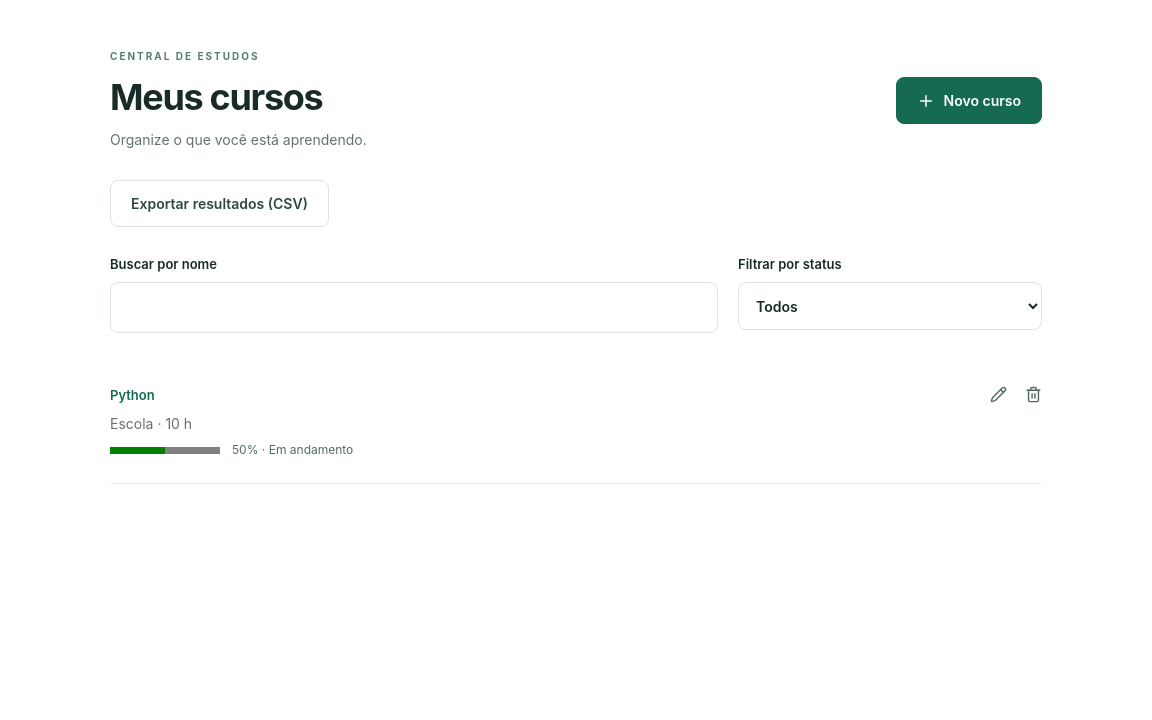
Test case: requires explicit confirmation before deleting a course and its tasks
Click the button named "Excluir Python".
click(1034, 394)  # box [1025,376,1042,413]
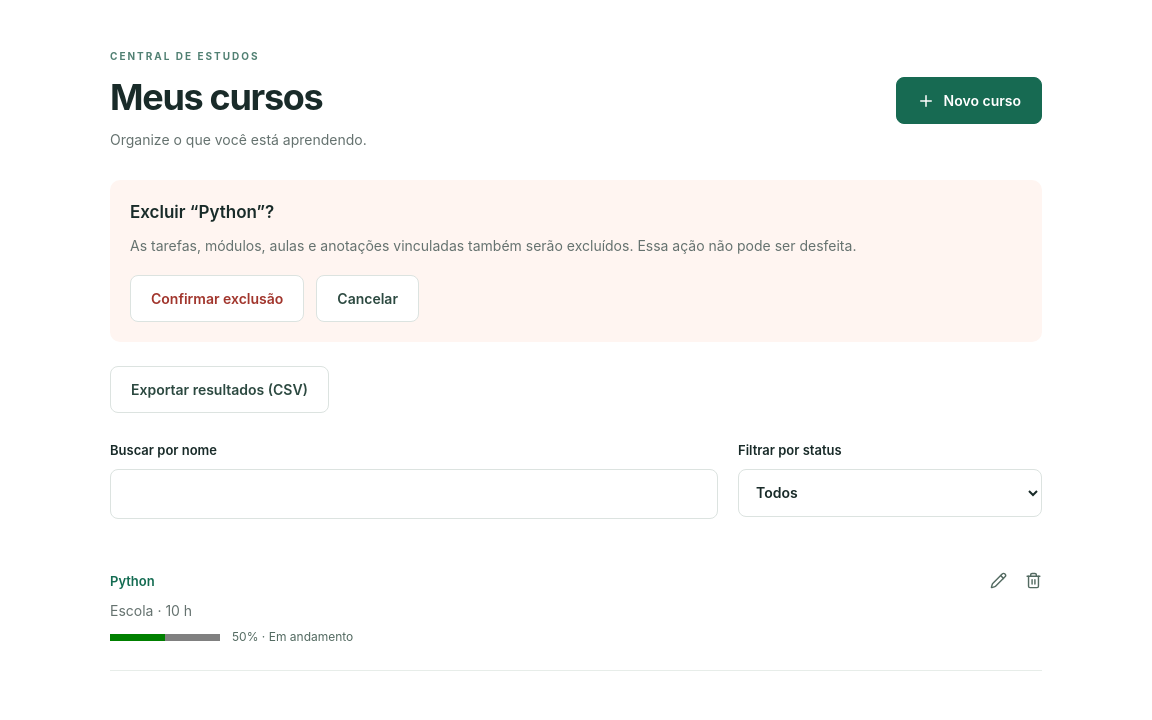
Check: the text "As tarefas, módulos" is shown, box [130,237,856,254]
Click the button "Confirmar exclusão".
click(217, 299)  # box [130,276,304,322]
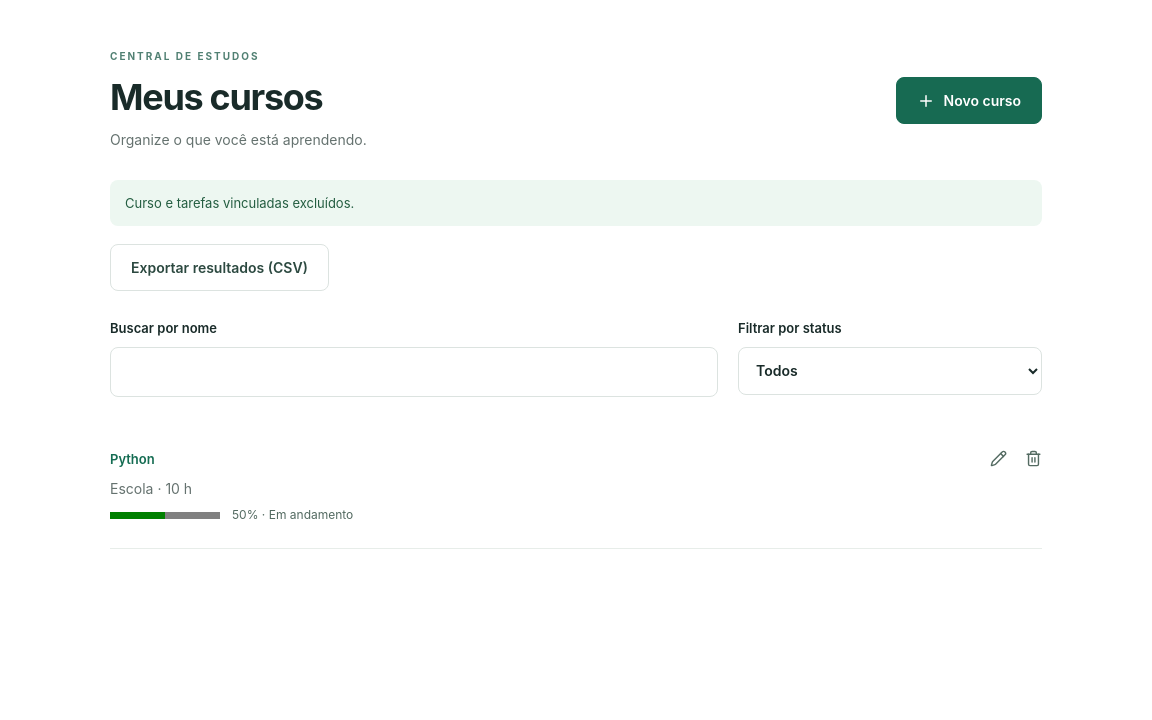
Check: the text "Curso e tarefas vinculadas excluídos." is shown, box [110,180,1042,226]
